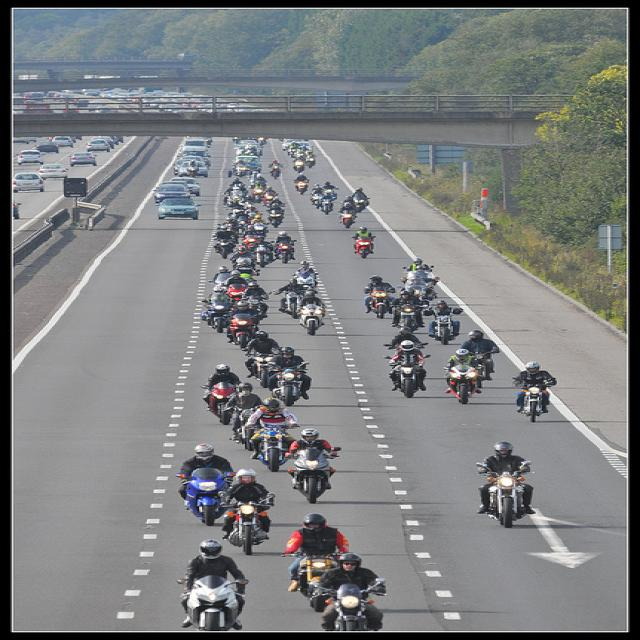motor: (177, 352, 438, 525), (174, 538, 249, 631), (279, 551, 354, 613), (477, 460, 536, 529), (218, 491, 276, 558), (315, 577, 386, 631), (284, 447, 342, 504), (248, 426, 299, 471), (264, 361, 311, 407), (510, 378, 554, 425), (221, 406, 263, 451), (445, 364, 486, 405), (200, 382, 237, 425), (290, 273, 319, 291)
